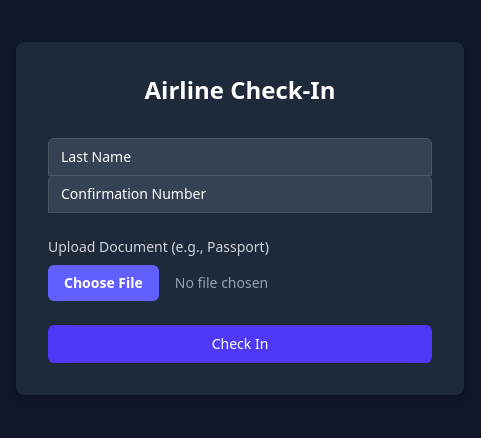
Scenario: CheckInPage › should allow a user to fill out the form and submit
Type "Smith" into the field with placeholder "Last Name" at (240, 156), box [48, 138, 432, 176]
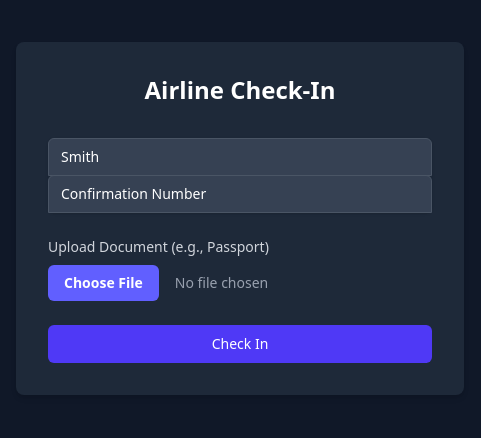
Type "ABC123" into the field with placeholder "Confirmation Number" at (240, 194), box [48, 174, 432, 212]
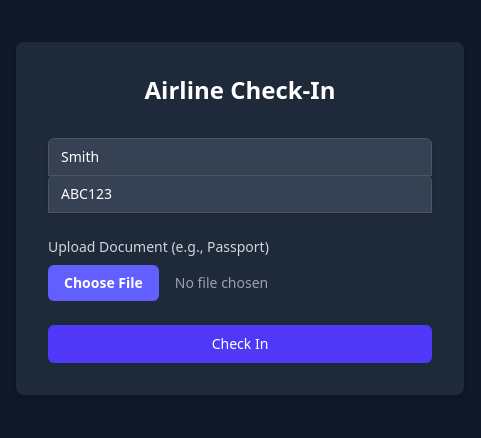
Click the button "Check In" at (240, 344), box [48, 324, 432, 362]
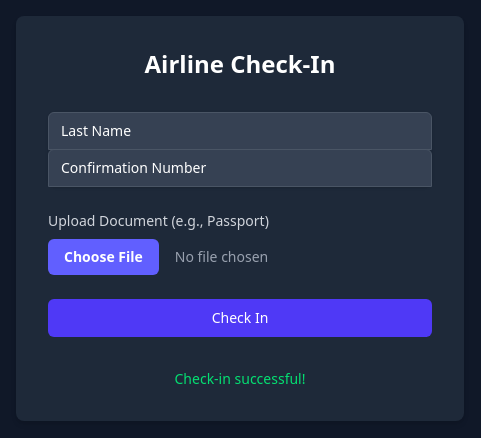
Now the text "Check-in successful!" is shown, box [174, 368, 306, 388]
